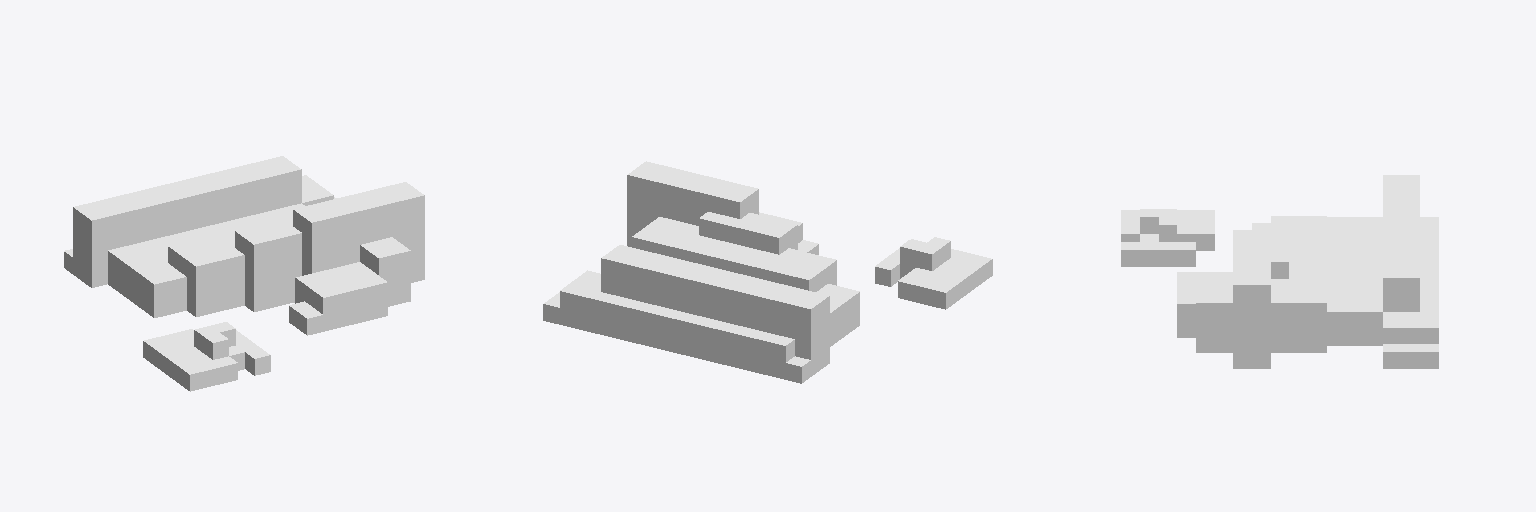
The model's file is rock3.obj.
3 views of the same model, side by side, from view 1: azimuth 30°, elevation 25°; view 2: azimuth 150°, elevation 25°; view 3: azimuth 270°, elevation 25° (orthographic).
Parts seen in each view (by area): view 1: object 1; view 2: object 1; view 3: object 1.
Boxes of the visible parts, <box> form: object 1: <box>64,156,424,391</box>; object 1: <box>543,161,992,383</box>; object 1: <box>1121,175,1438,368</box>.
Bounding box in the file's own units: 1.8 × 0.5 × 1.7.